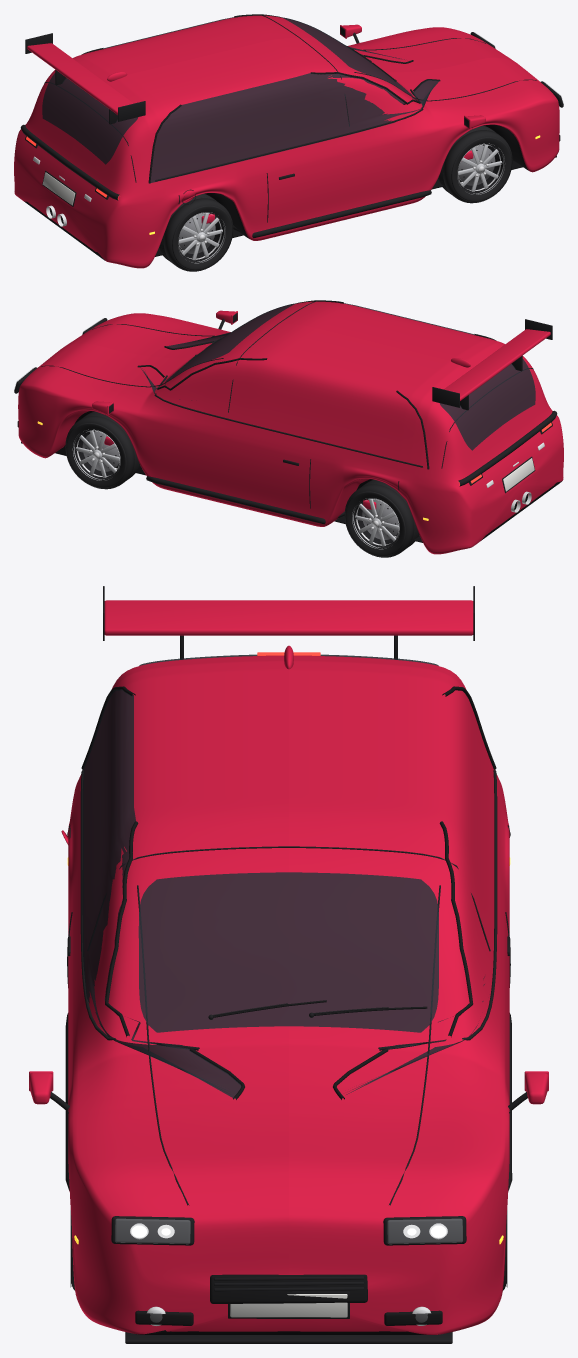
3 views of the same model, one above another, from view 1: azimuth 30°, elevation 25°; view 2: azimuth 150°, elevation 25°; view 3: azimuth 270°, elevation 25° (orthographic). The views are drawn at different scales.
Visible parts, largest first — view 1: body, glass_side_R, glass_screen_1, wheel_FR_tyre, wheel_RR_tyre, wing, glass_screen_0, side_skirt, tail_housing, belt_trim, wheel_RR_disc, wheel_FR_disc (+4 smaller); view 2: body, glass_screen_1, wheel_RL_tyre, wheel_FL_tyre, wing, glass_screen_0, side_skirt.001, tail_housing, belt_trim.001, wheel_RL_disc, wheel_FL_disc, plate_rear (+4 smaller); view 3: body, glass_screen_0, wing, glass_side_R, grille_back, splitter, head_housing, head_housing.001, plate_front, head_lens, head_lens.001, belt_trim.001 (+3 smaller).
Boxes of the visible parts, box(x1,y1,x2,y2) form: body: box(14, 15, 559, 268); glass_side_R: box(150, 73, 439, 183); glass_screen_1: box(42, 73, 138, 164); wheel_FR_tyre: box(437, 125, 512, 203); wheel_RR_tyre: box(158, 194, 233, 271); wing: box(27, 43, 133, 114); glass_screen_0: box(283, 17, 412, 95); side_skirt: box(233, 190, 431, 238); tail_housing: box(20, 124, 119, 200); belt_trim: box(155, 89, 423, 181); wheel_RR_disc: box(179, 213, 215, 253); wheel_FR_disc: box(458, 145, 495, 185); body: box(18, 301, 563, 554); glass_screen_1: box(439, 359, 535, 450); wheel_RL_tyre: box(344, 480, 419, 557); wheel_FL_tyre: box(65, 411, 140, 489); wing: box(444, 329, 550, 400); glass_screen_0: box(165, 303, 294, 381); side_skirt.001: box(146, 476, 344, 524); tail_housing: box(458, 410, 557, 486); belt_trim.001: box(154, 375, 422, 467); wheel_RL_disc: box(362, 499, 398, 539); wheel_FL_disc: box(82, 431, 119, 471); plate_rear: box(503, 458, 534, 491); body: box(68, 655, 509, 1334); glass_screen_0: box(138, 872, 438, 1032); wing: box(104, 600, 473, 635); glass_side_R: box(82, 689, 241, 1098); grille_back: box(210, 1274, 367, 1303); splitter: box(125, 1332, 452, 1343); head_housing: box(111, 1216, 194, 1245); head_housing.001: box(383, 1216, 466, 1245); plate_front: box(230, 1294, 347, 1317); head_lens: box(115, 1218, 190, 1244); head_lens.001: box(387, 1219, 462, 1244); belt_trim.001: box(378, 770, 497, 1050).
Bounding box in the file's own units: 4.47 × 1.61 × 2.13.
